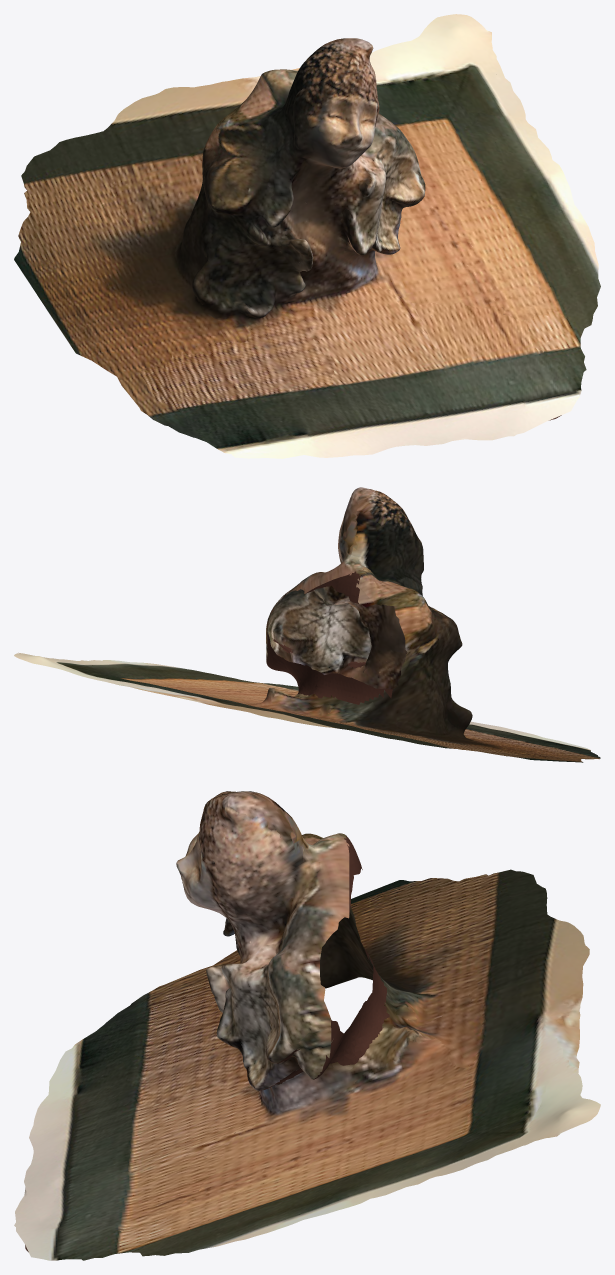
File: noefy.obj
3 renders of one model, top to bottom at view 1: azimuth 30°, elevation 25°; view 2: azimuth 150°, elevation 25°; view 3: azimuth 270°, elevation 25°, orthographic. The views are drawn at different scales.
Bounding box in the file's own units: 1.74 × 1.04 × 1.4.
